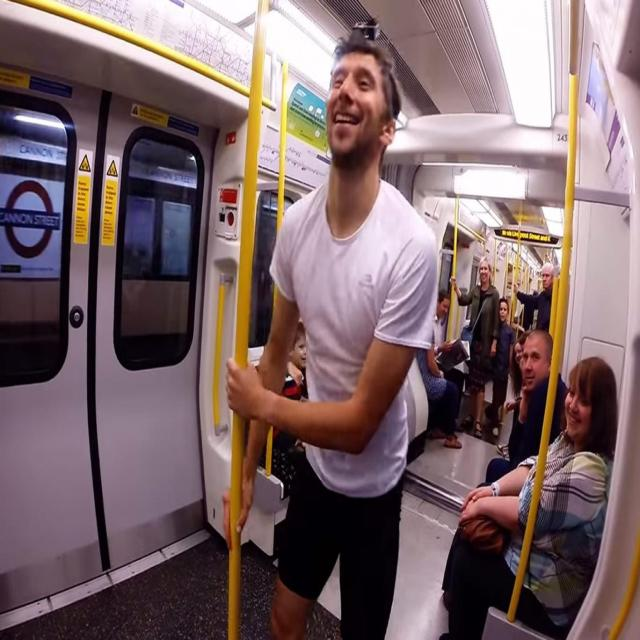body: (220, 19, 445, 639), (439, 351, 622, 639), (485, 326, 570, 484), (448, 249, 502, 440), (268, 320, 307, 495), (416, 324, 464, 449), (429, 286, 466, 434), (494, 329, 534, 463), (484, 296, 516, 438), (513, 262, 555, 333), (518, 290, 538, 332)
